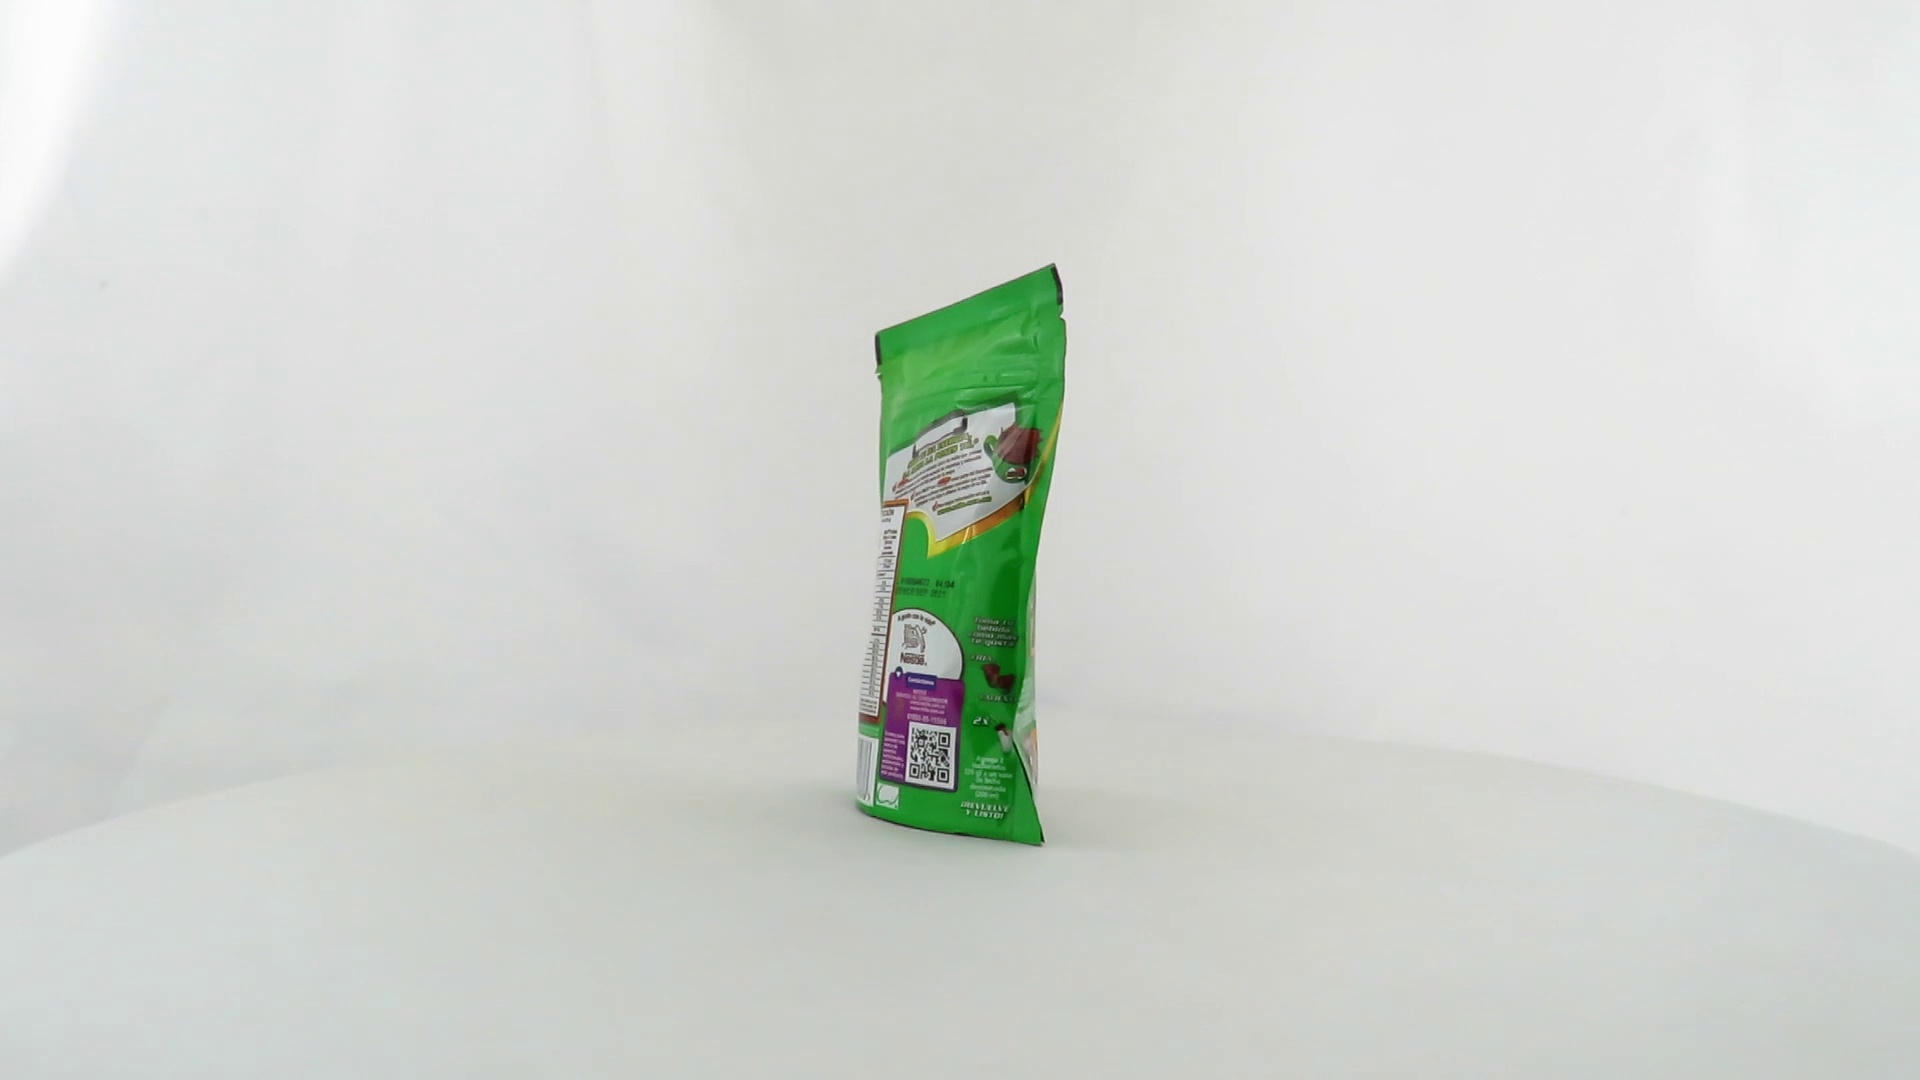COL0170203DYP10000: (825, 258, 1073, 853)
